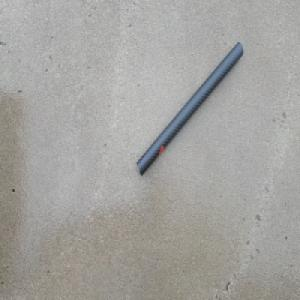LuggagePart: (137, 41, 243, 178)
